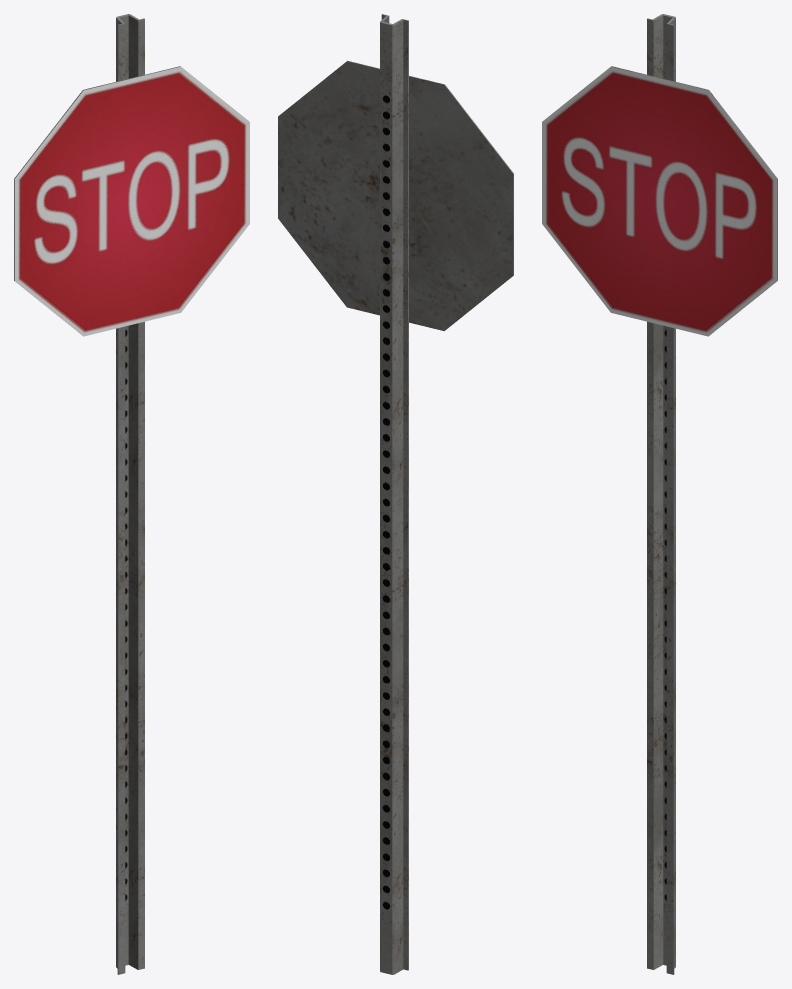
File: stop.glb
3 renders of one model, left to right at view 1: azimuth 30°, elevation 25°; view 2: azimuth 150°, elevation 25°; view 3: azimuth 330°, elevation 25°, orthographic.
Parts seen in each view (by area): view 1: Cube.080_35; view 2: Cube.080_35; view 3: Cube.080_35.
Boxes of the visible parts, x1,y1,x2,y2 form: Cube.080_35: (14,14,249,974); Cube.080_35: (278,14,513,974); Cube.080_35: (542,14,777,974).
Size of the model in its own units: 2.95 by 11.36 by 0.2147.
1 material, 1 textured.
